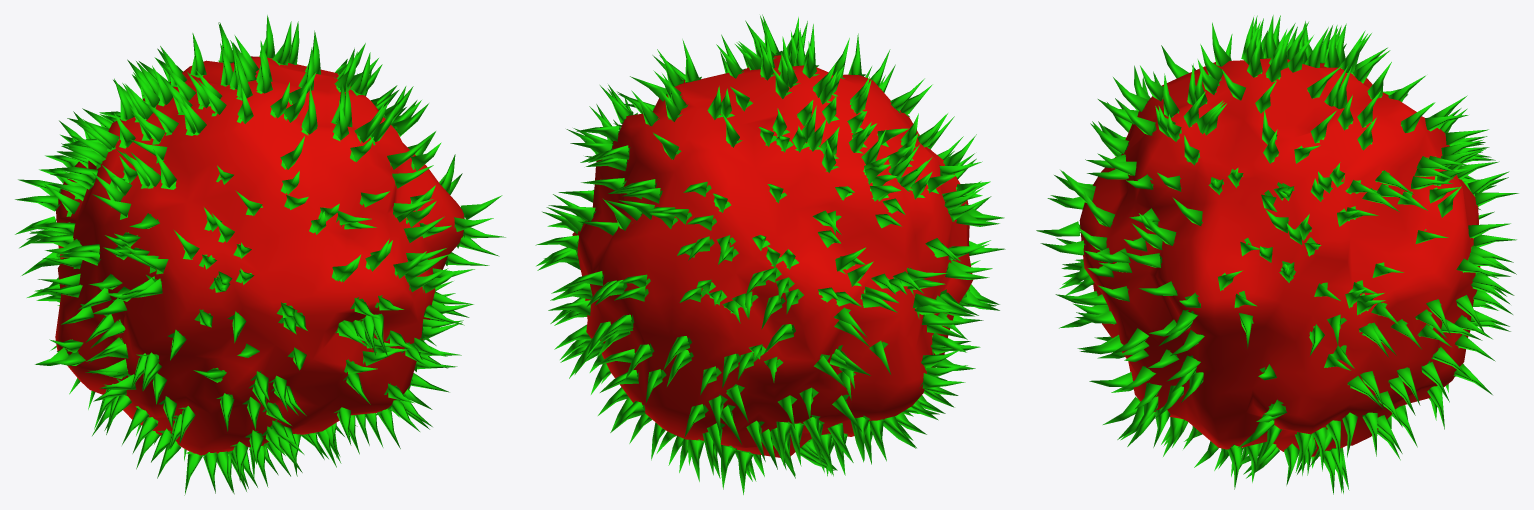
The model's file is Green Moleucle.fbx.
3 renders of one model, left to right at view 1: azimuth 30°, elevation 25°; view 2: azimuth 150°, elevation 25°; view 3: azimuth 270°, elevation 25°, orthographic.
Visible parts, largest first — view 1: Cone.116; view 2: Cone.116; view 3: Cone.116.
Part boxes in pixels (x1,y1,x2,y2): Cone.116: (15, 15, 505, 495); Cone.116: (535, 14, 1005, 494); Cone.116: (1036, 15, 1518, 494).
Bounding box in the file's own units: 221 × 223 × 225.
